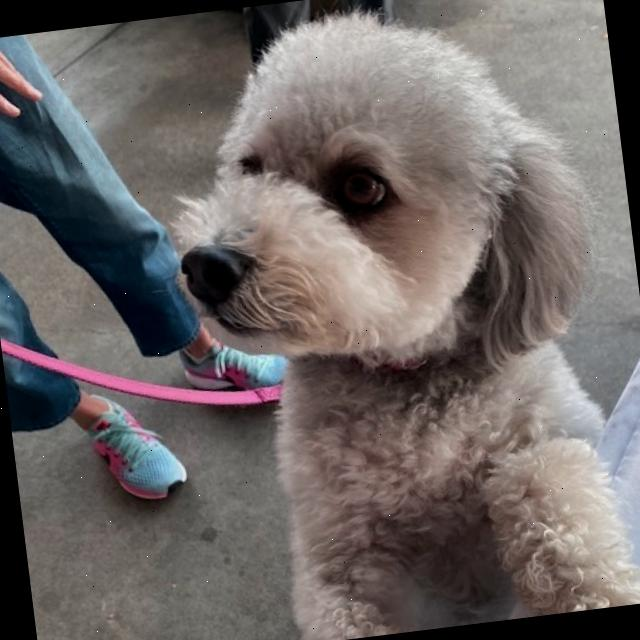Poodle_dog: (142, 0, 618, 433)
